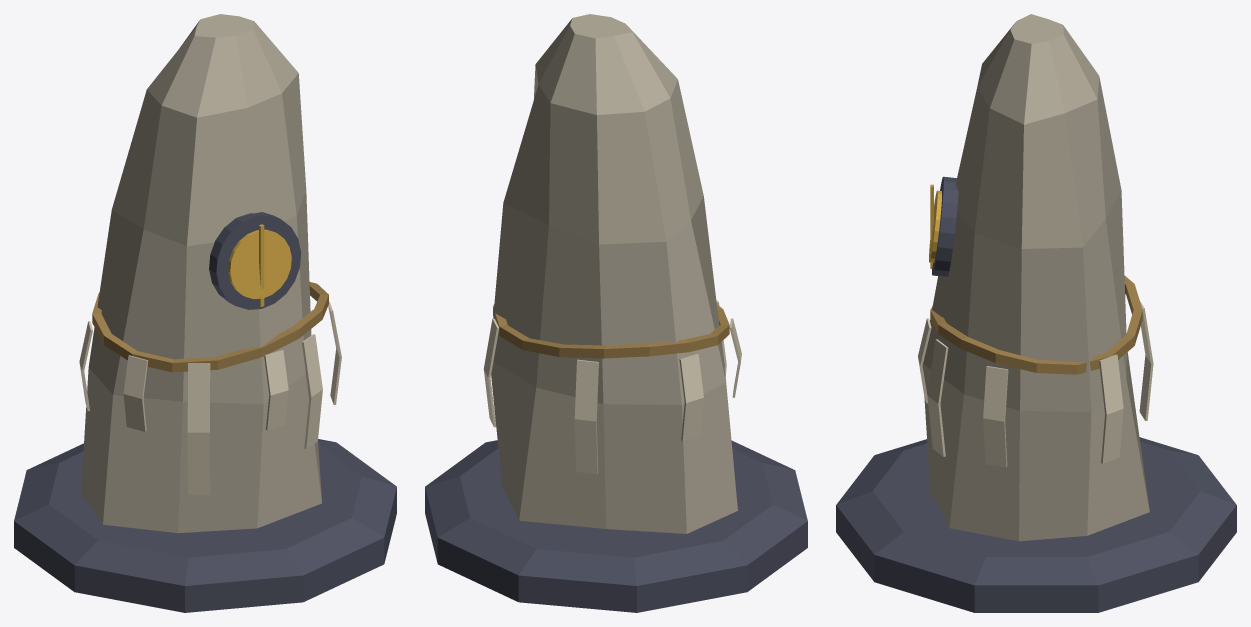
Rendered from vow_stone.glb.
3 renders of one model, left to right at view 1: azimuth 30°, elevation 25°; view 2: azimuth 150°, elevation 25°; view 3: azimuth 270°, elevation 25°, orthographic. The views are drawn at different scales.
Visible parts, largest first — view 1: VowStone; view 2: VowStone; view 3: VowStone.
Part boxes in pixels (x1,y1,x2,y2): VowStone: [14, 14, 396, 612]; VowStone: [425, 14, 807, 612]; VowStone: [836, 14, 1236, 612].
Bounding box in the file's own units: 1.26 × 1.86 × 1.32.
